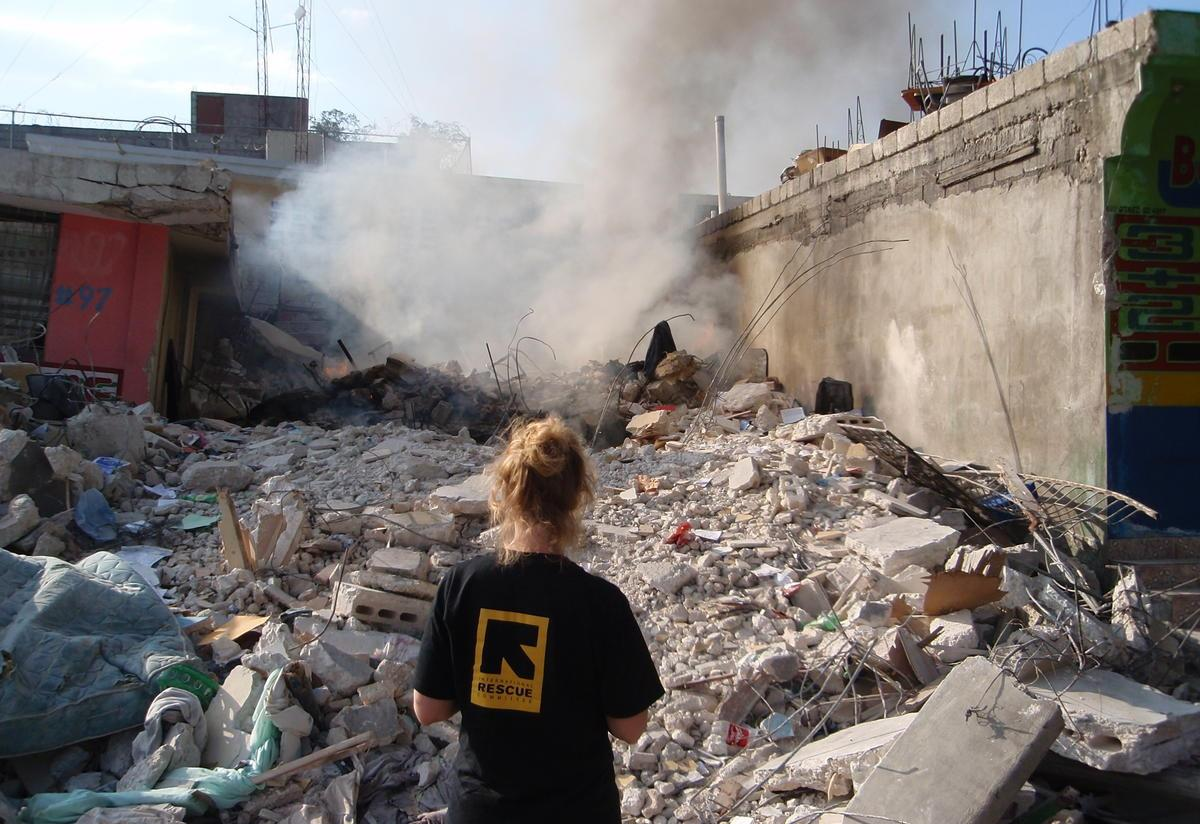victim: (407, 414, 662, 822)
